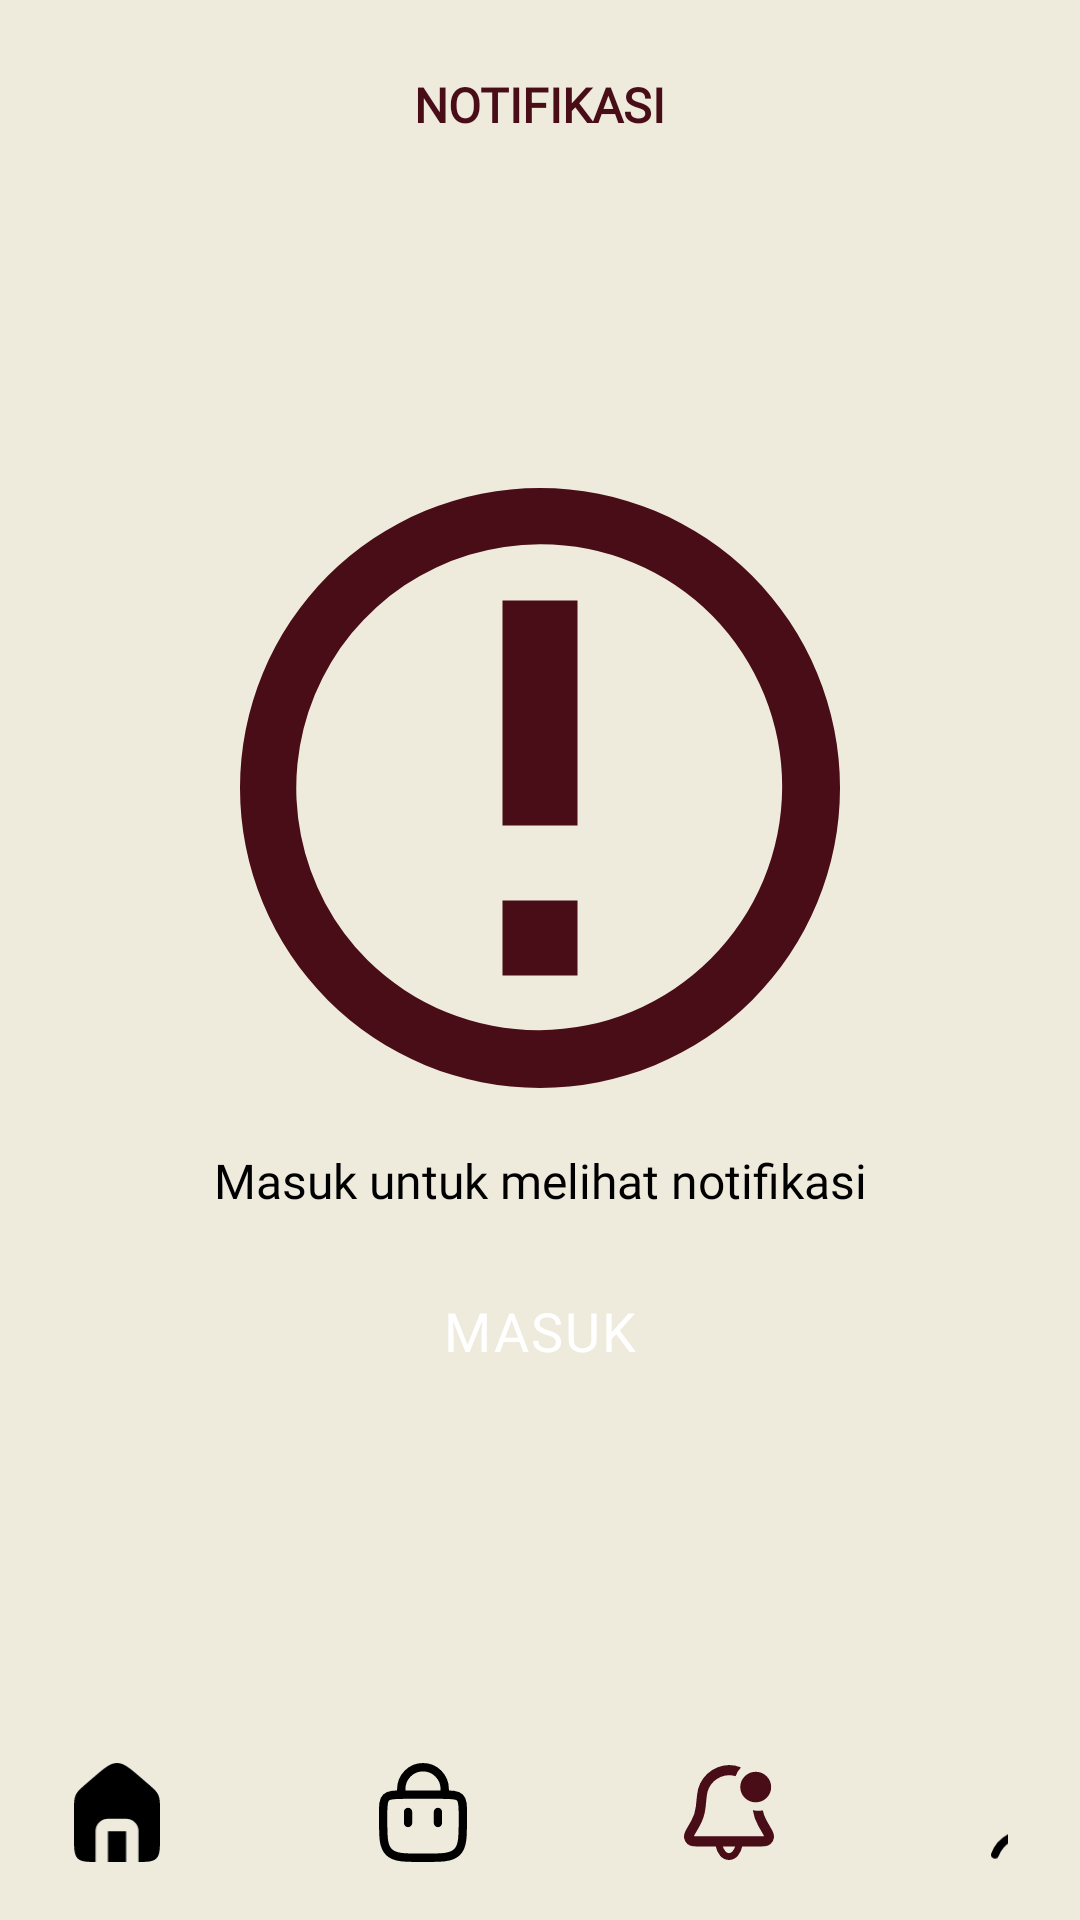

Where icons sit on this 1080px x 1920px app screen, as {"x1": x1, "y1": y1, "x2": x2, "y2": y2}:
cart: {"x1": 379, "y1": 1763, "x2": 467, "y2": 1862}
home: {"x1": 74, "y1": 1763, "x2": 160, "y2": 1862}
notification: {"x1": 684, "y1": 1765, "x2": 774, "y2": 1860}
